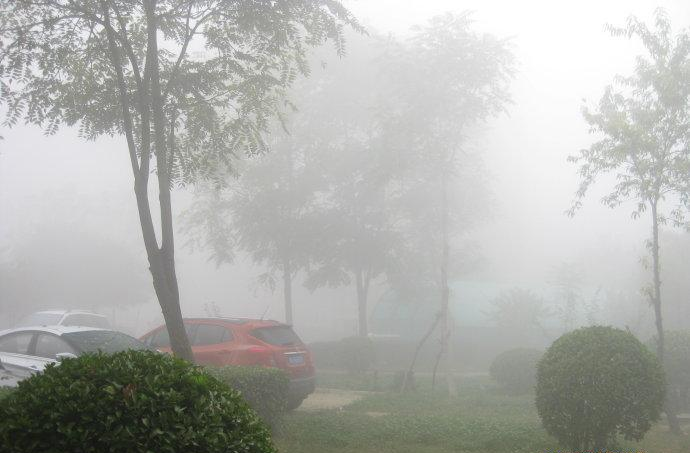car: (115, 304, 316, 417), (2, 326, 203, 432), (2, 308, 125, 379)
